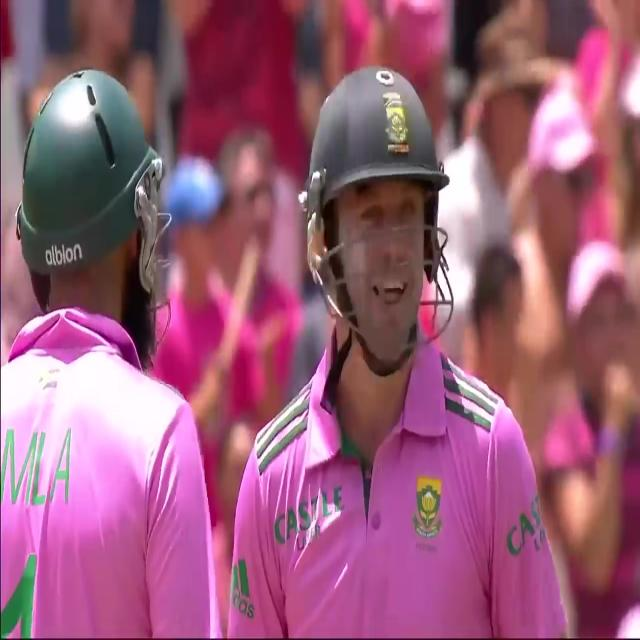Ball: (227, 67, 552, 639), (0, 75, 225, 640)
